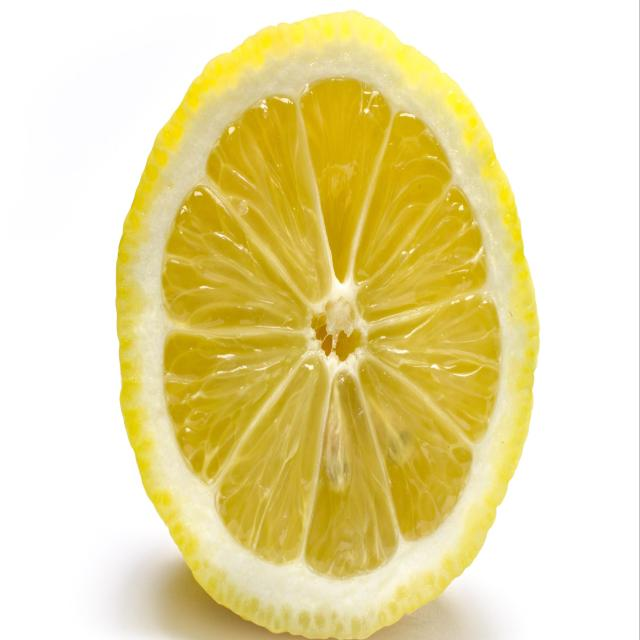lemon: (109, 0, 549, 640)
